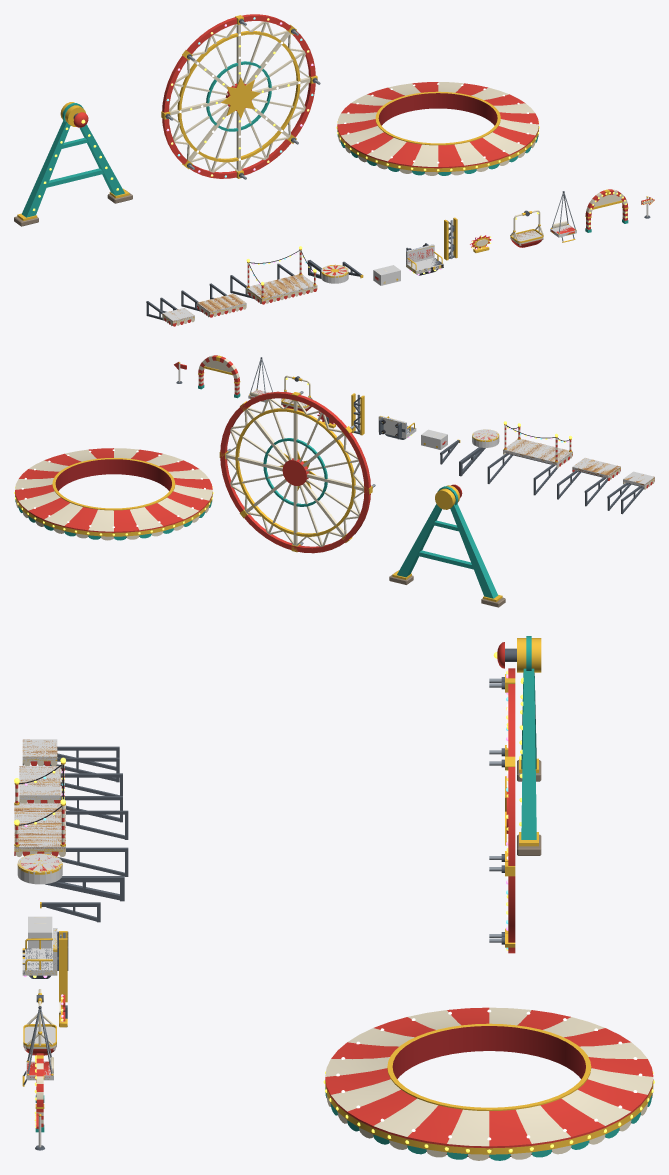
File: kit_rides.glb
The picture shows the model from 3 angles, top to bottom: view 1: azimuth 30°, elevation 25°; view 2: azimuth 150°, elevation 25°; view 3: azimuth 270°, elevation 25°; orthographic projection. The views are drawn at different scales.
Parts seen in each view (by area): view 1: swing_hub_mesh, ferris_rotor_mesh, ferris_base_mesh, deck_l_mesh, deck_m_mesh, COL_deck_l, station_arch_mesh, ferris_gondola_mesh, drop_rail_mesh, COL_deck_m, deck_s_mesh; view 2: swing_hub_mesh, ferris_rotor_mesh, ferris_base_mesh, deck_l_mesh, COL_deck_l, deck_m_mesh, station_arch_mesh, deck_s_mesh, COL_deck_m, drop_rail_mesh, deck_round_mesh, COL_deck_round (+1 smaller); view 3: swing_hub_mesh, ferris_base_mesh, deck_l_mesh, ferris_rotor_mesh, COL_deck_l, deck_m_mesh, deck_s_mesh, deck_round_mesh, COL_deck_m, COL_deck_round, COL_drop_car_floor, drop_car_mesh (+4 smaller).
Boxes of the visible parts, x1,y1,x2,y2 form: swing_hub_mesh: (336,82,539,175); ferris_rotor_mesh: (161,14,320,179); ferris_base_mesh: (14,102,132,226); deck_l_mesh: (230,246,317,304); deck_m_mesh: (181,283,246,317); COL_deck_l: (246,275,316,301); station_arch_mesh: (585,189,628,232); ferris_gondola_mesh: (510,210,543,247); drop_rail_mesh: (444,217,457,260); COL_deck_m: (197,293,246,314); deck_s_mesh: (146,297,194,326); swing_hub_mesh: (14,448,213,540); ferris_rotor_mesh: (219,391,375,553); ferris_base_mesh: (389,484,505,607); deck_l_mesh: (487,421,572,495); COL_deck_l: (503,439,572,465); deck_m_mesh: (557,458,620,506); station_arch_mesh: (198,355,240,398); deck_s_mesh: (607,474,654,514); COL_deck_m: (572,458,620,478); drop_rail_mesh: (351,393,364,435); deck_round_mesh: (459,430,498,476); COL_deck_round: (472,429,499,447); swing_hub_mesh: (323,1007,654,1160); ferris_base_mesh: (493,636,541,855); deck_l_mesh: (14,757,128,876); ferris_rotor_mesh: (489,668,515,953); COL_deck_l: (14,803,65,851); deck_m_mesh: (19,766,122,822); deck_s_mesh: (22,739,119,782); deck_round_mesh: (17,853,124,901); COL_deck_m: (19,766,60,799); COL_deck_round: (17,853,62,884); COL_drop_car_floor: (22,948,57,975); drop_car_mesh: (22,929,68,978).
Size of the model in its own units: 54.03 by 16.64 by 37.1.
